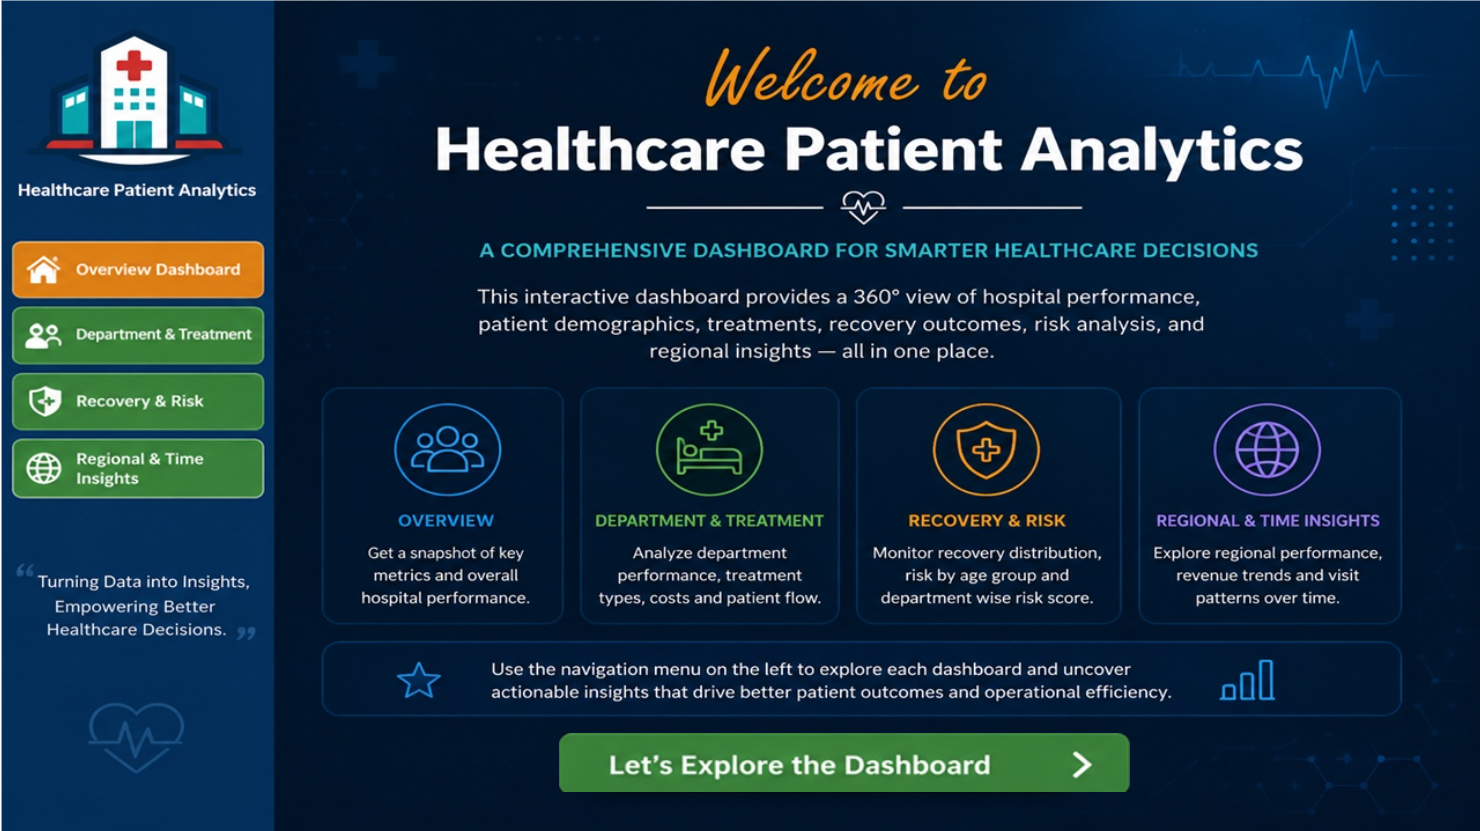

Layout of this report page (visuals, bound fields, positions):
{"tool":"tableau","page":{"name":"welcome","canvas":[1580,900],"ordinal":5},"visuals":[{"type":"image","param":"Image/welcome_page.png","box":[5,26,1579,833]},{"type":"dashboard-object","box":[61,199,258,397]},{"type":"dashboard-object","box":[612,747,571,83]}]}

Visuals, with their boxes in screenshot pixels (x1, y1, x2, y2), scaled from the page's 1580x900 canvas onto the 1480x831 screenshot:
image: [x1=5, y1=24, x2=1479, y2=793]
dashboard-object: [x1=57, y1=184, x2=299, y2=550]
dashboard-object: [x1=573, y1=690, x2=1108, y2=766]
